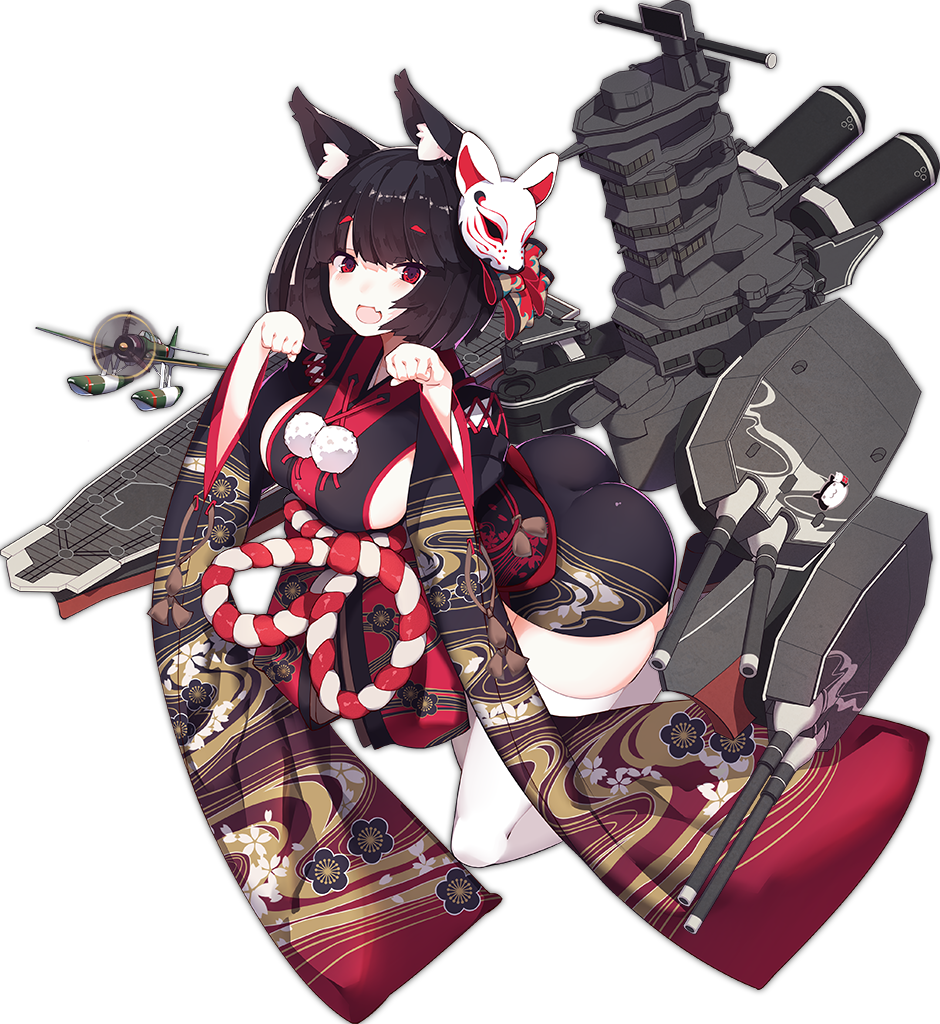person: (197, 130, 649, 1024)
